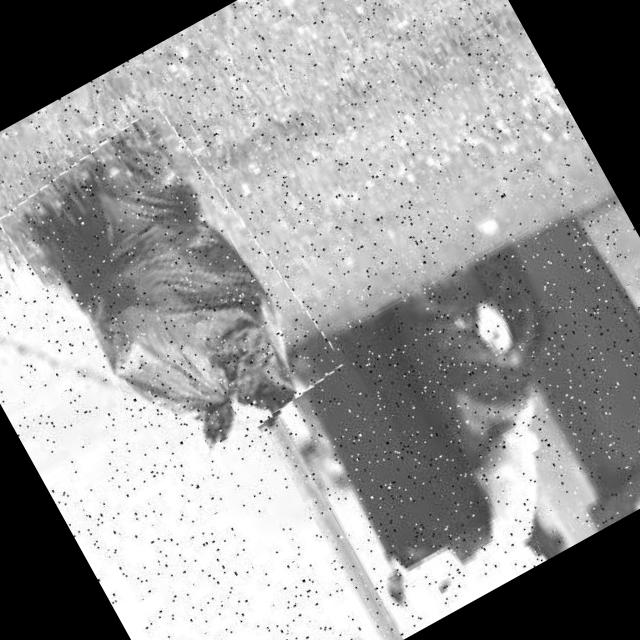KantongPlastik: (0, 106, 326, 492)
